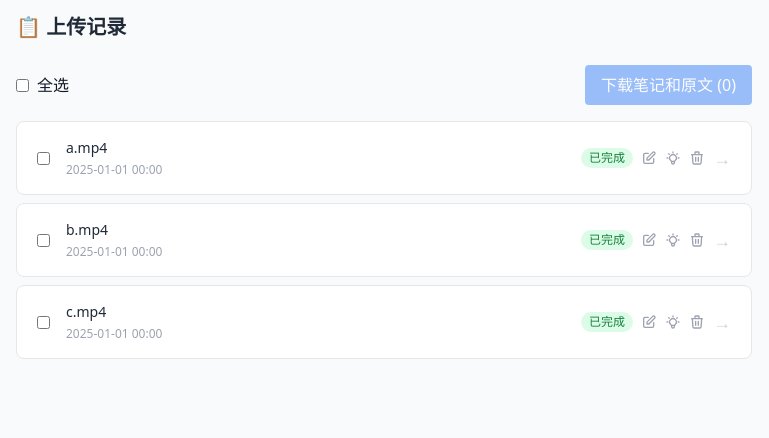
Scenario: VideoListPage - 错误场景 › 下载失败时显示错误信息和重试按钮
Click the checkbox next to "a.mp4".
click(44, 158)  # box [37, 152, 50, 164]
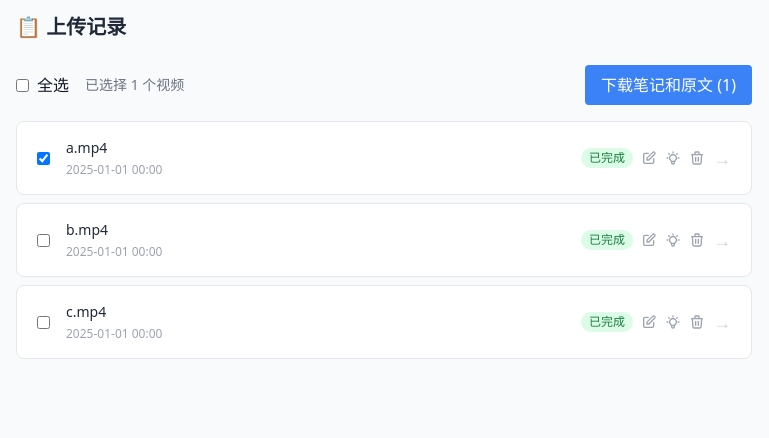
Click the button "下载笔记和原文 (1)".
click(669, 85)  # box [585, 65, 752, 105]
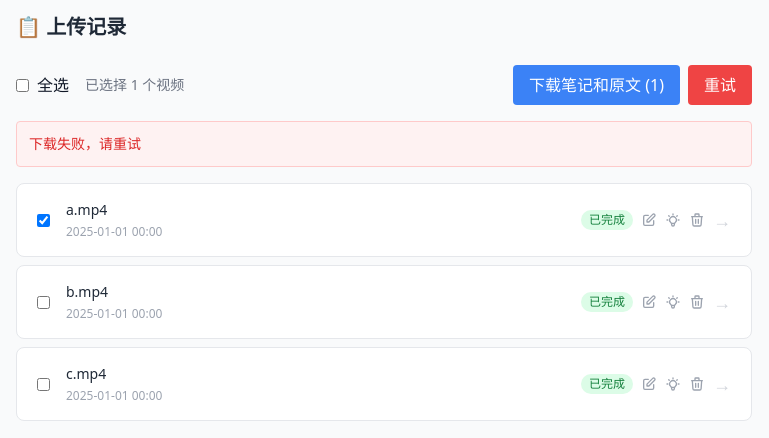
Expected: the text "下载失败，请重试" is shown, [16, 121, 752, 167]
Expected: the button "重试" is shown, [688, 65, 752, 105]
